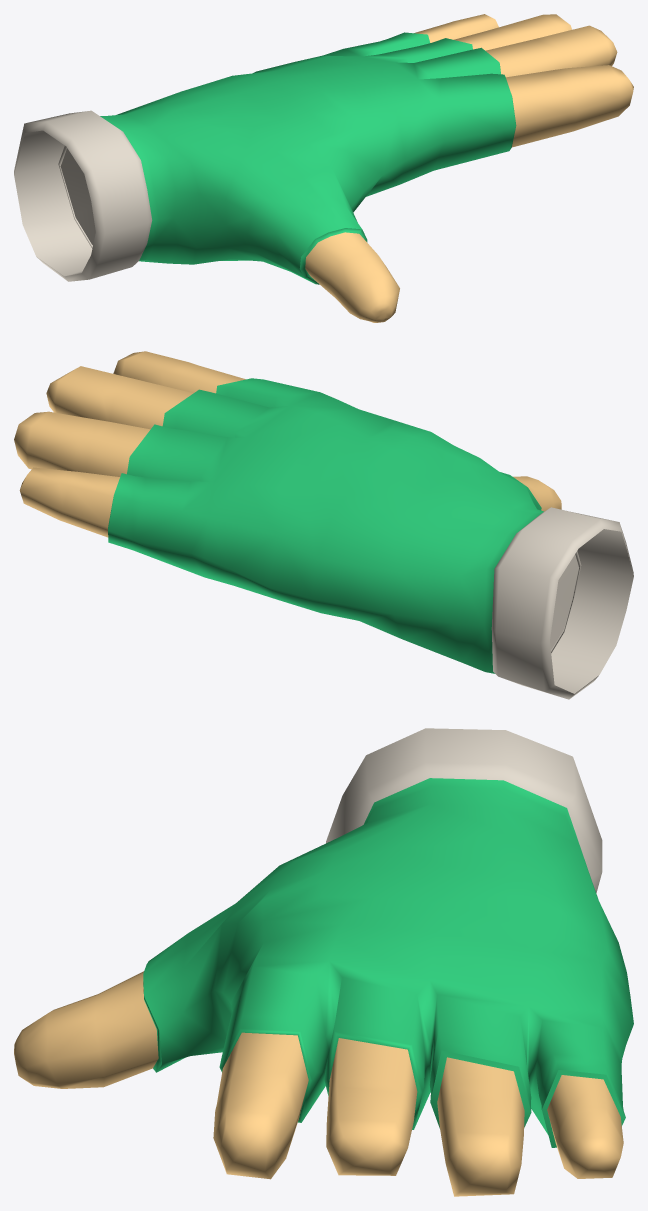
The model's file is Left_Arm_03_03.fbx.
3 renders of one model, top to bottom at view 1: azimuth 30°, elevation 25°; view 2: azimuth 150°, elevation 25°; view 3: azimuth 270°, elevation 25°, orthographic. The views are drawn at different scales.
Parts seen in each view (by area): view 1: Left_Arm_03_03; view 2: Left_Arm_03_03; view 3: Left_Arm_03_03.
Boxes of the visible parts, box(x1,y1,x2,y2) form: Left_Arm_03_03: box(14, 14, 633, 322); Left_Arm_03_03: box(14, 351, 633, 699); Left_Arm_03_03: box(14, 728, 633, 1196).
Size of the model in its own units: 26.07 by 7.21 by 16.87.
